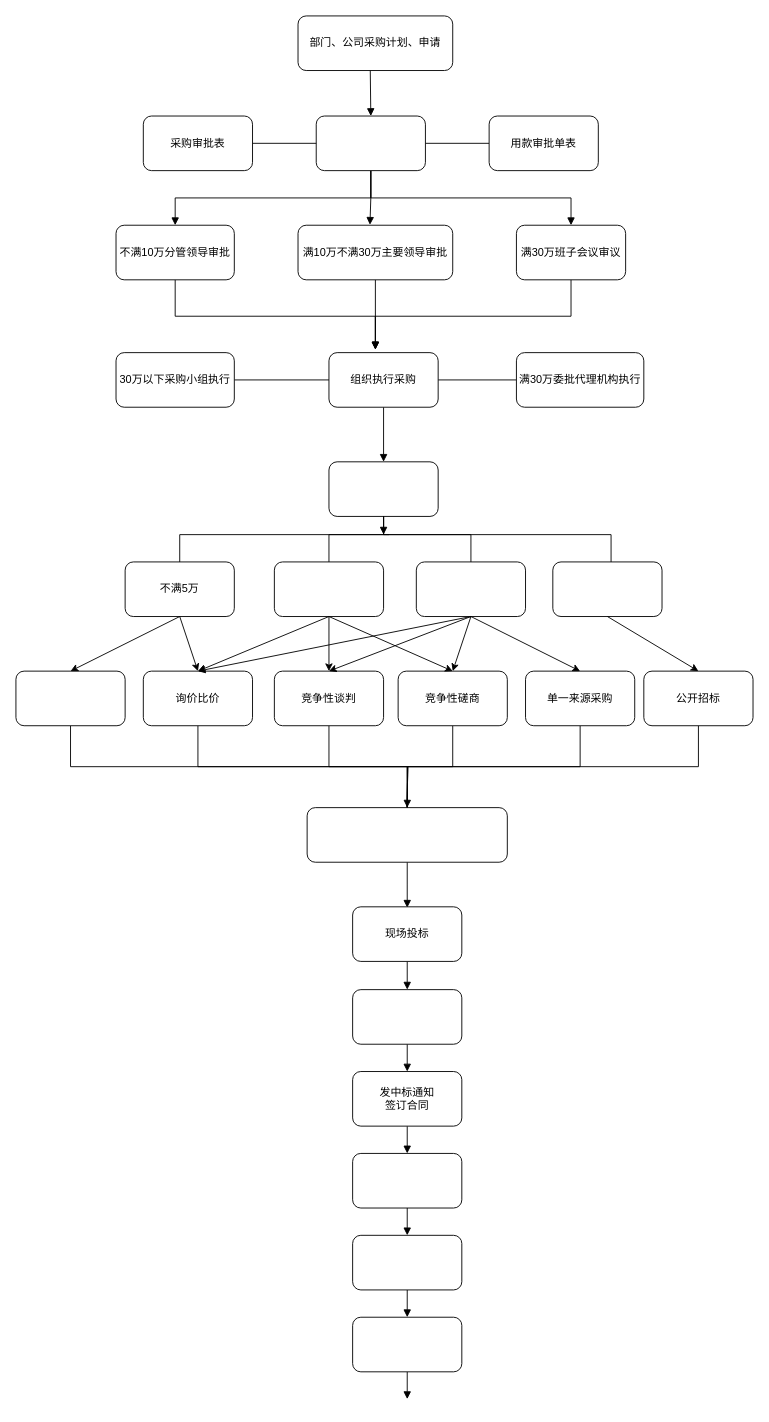
Some shapes in this 769 by 1422 pixel diagram are drawn without their labels. The centre of each missing label's shape, as x and y in pixels:
"发出邀请或公告 发售采购文件、接受报名" belongs at (406,834).
"报送审批、审议" belongs at (370,143).
"满100万" belongs at (607,589).
"满30万不满100万" belongs at (470,589).
"满5万不满30万" belongs at (328,589).
"直接采购" belongs at (70,698).
"结果公布或公示" belongs at (407,1016).
"采购方式" belongs at (383,488).
